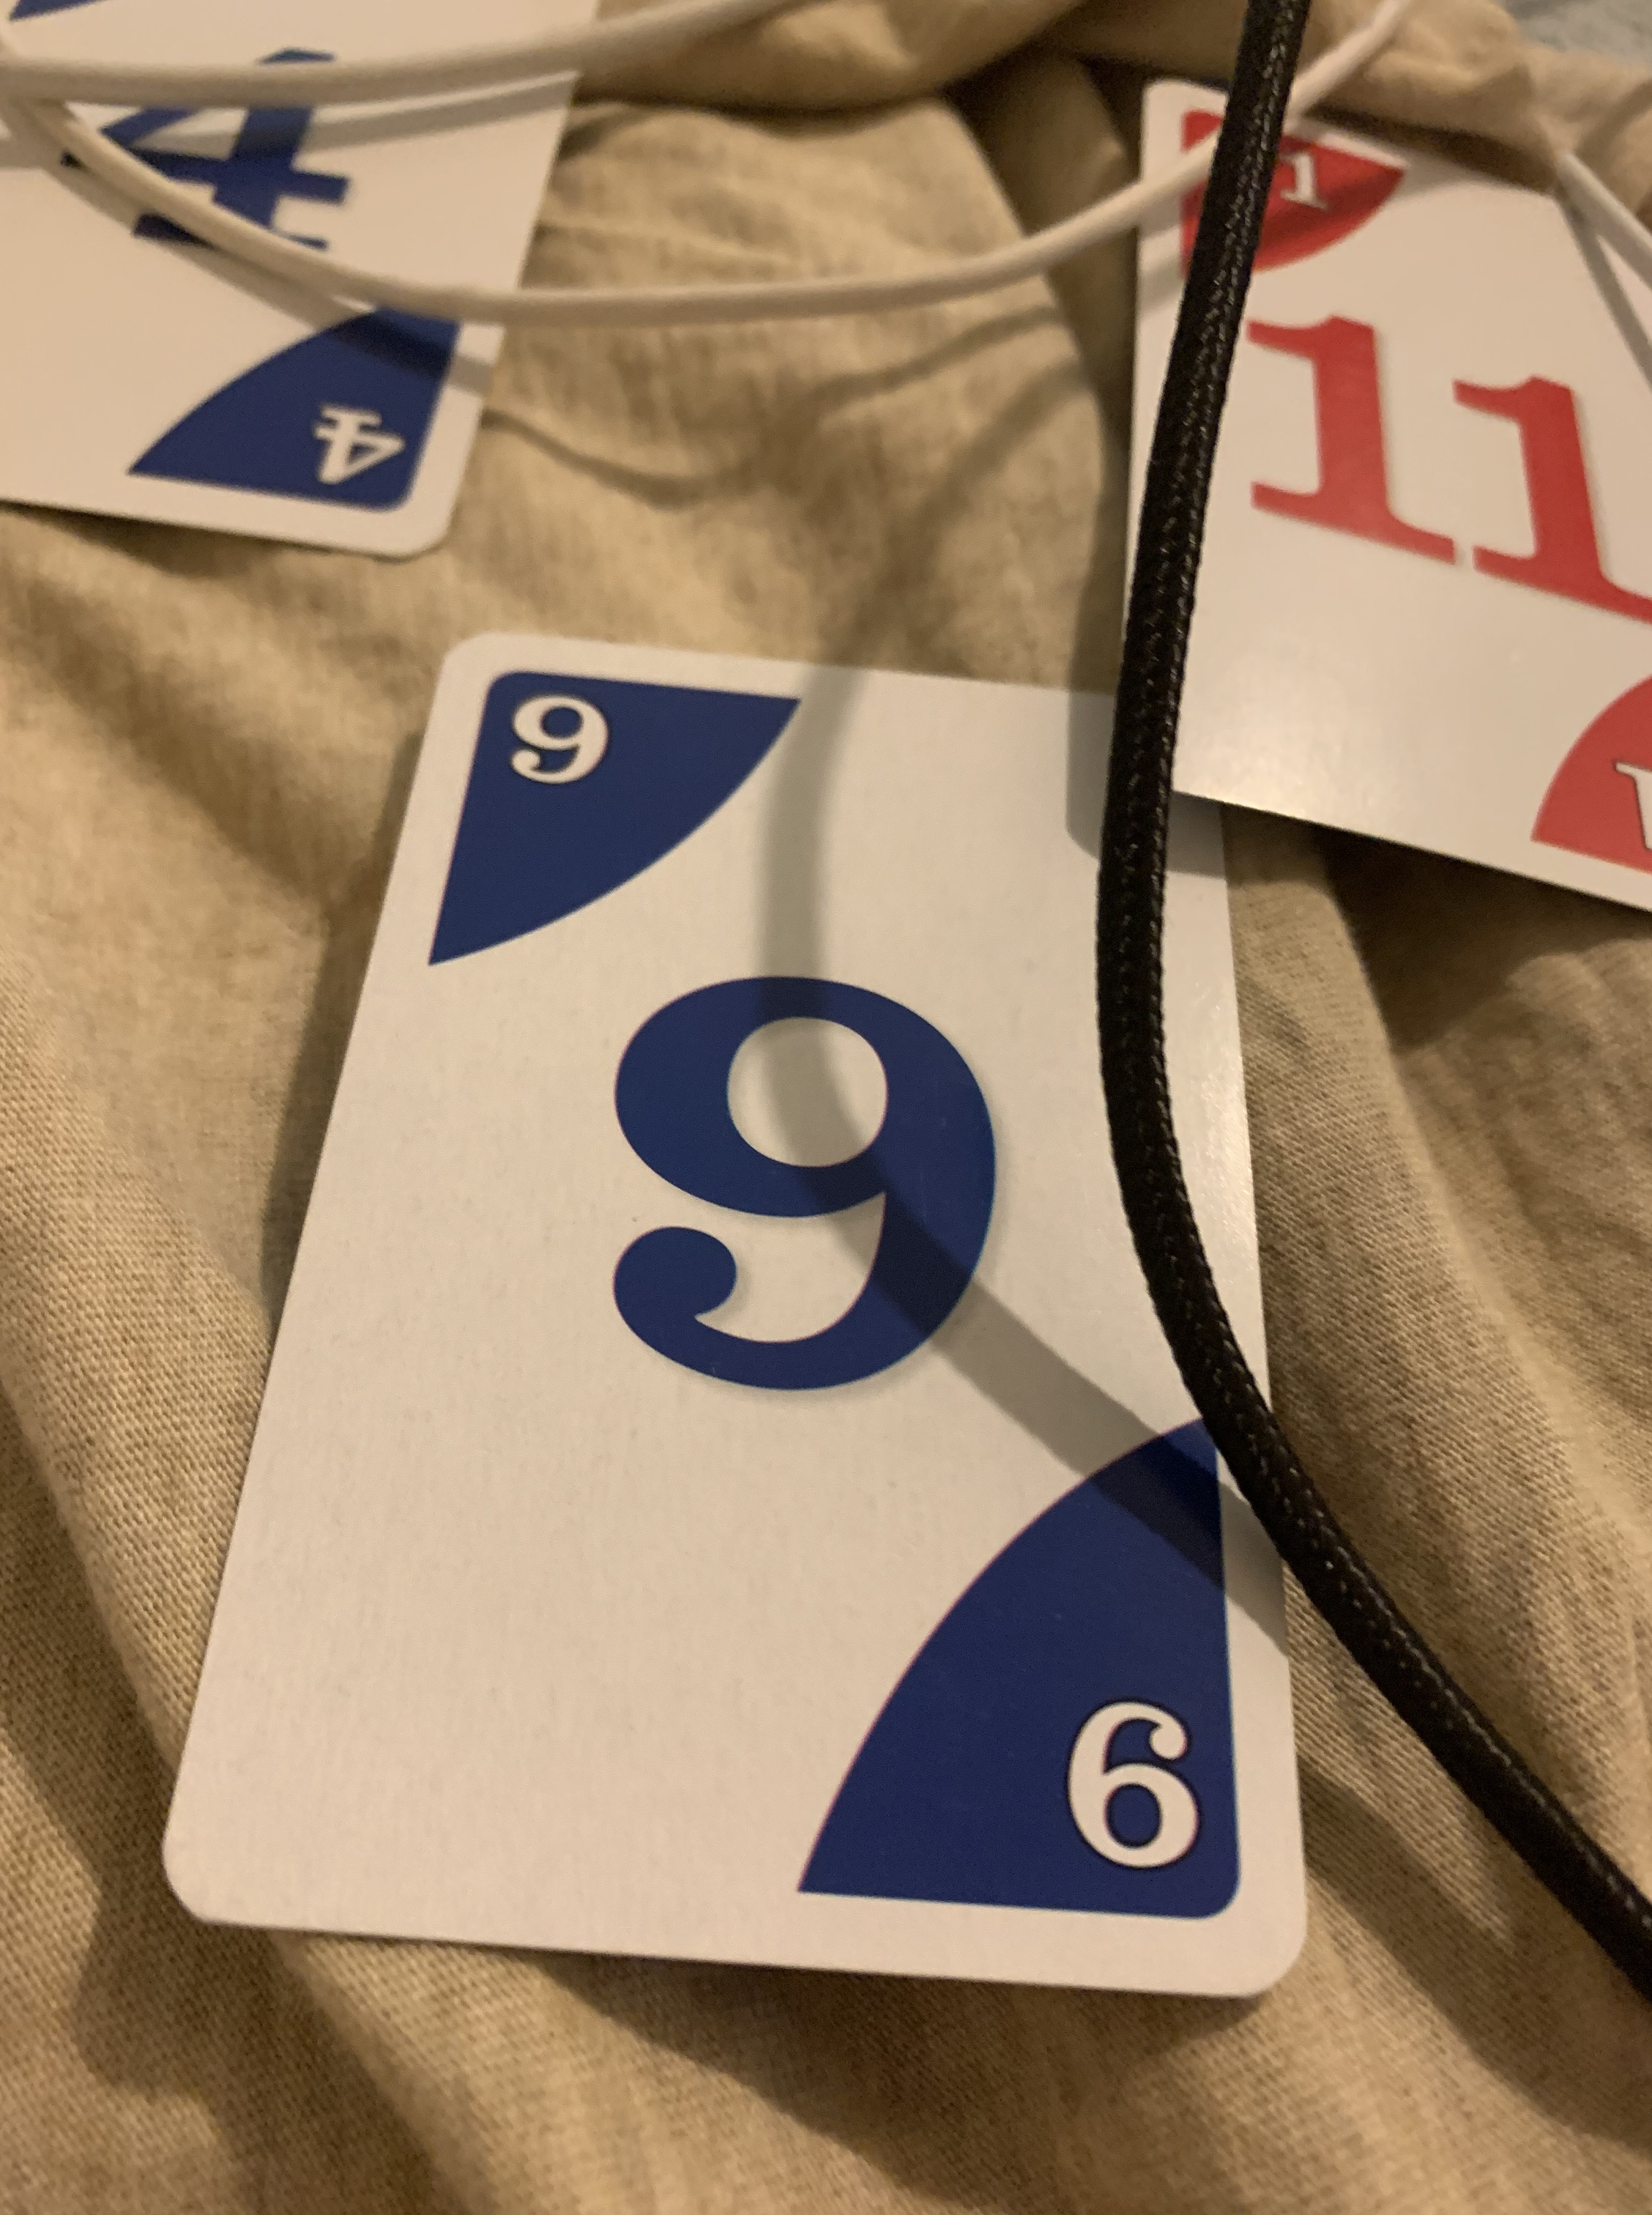eleven: (1116, 75, 1652, 930)
nine: (141, 620, 1338, 2015)
